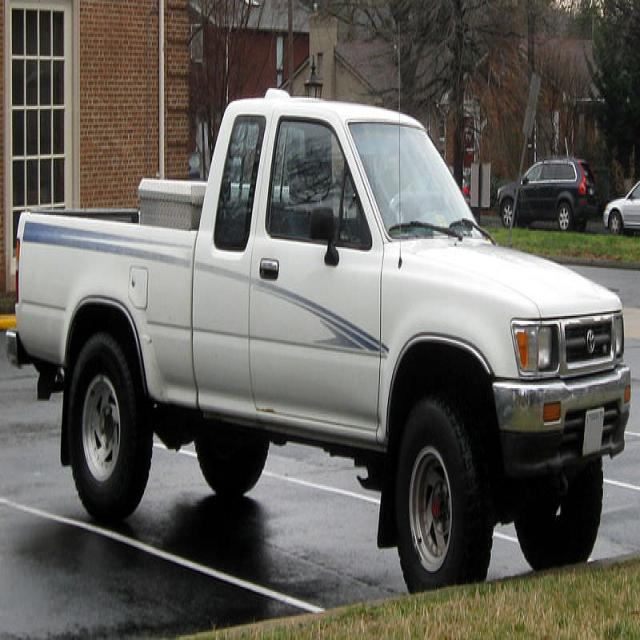light_vehicle: (16, 47, 626, 620)
